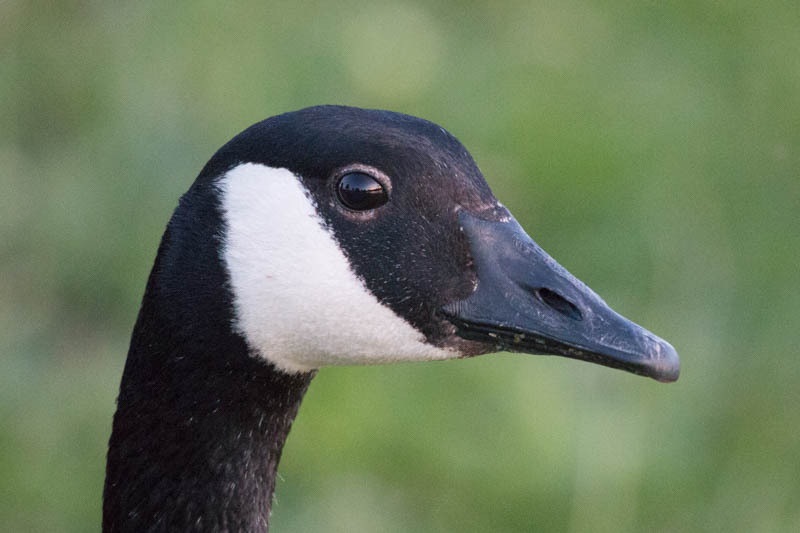goose-head: (142, 104, 680, 384)
